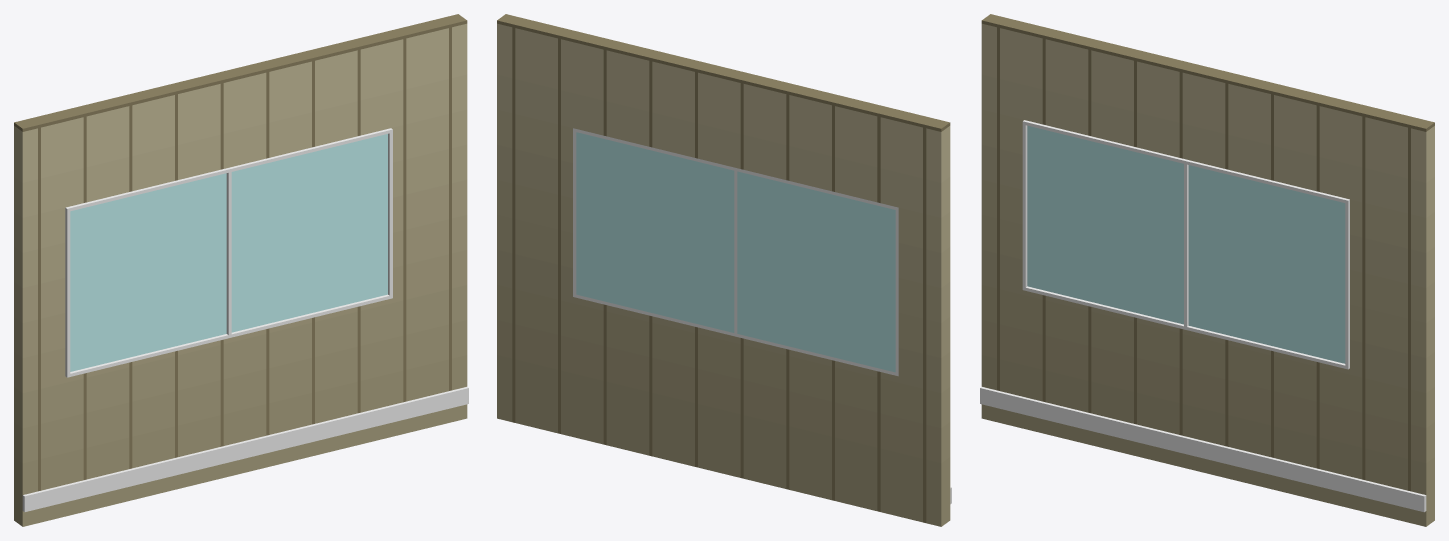
File: wall40.obj
3 views of the same model, side by side, from view 1: azimuth 30°, elevation 25°; view 2: azimuth 150°, elevation 25°; view 3: azimuth 330°, elevation 25° (orthographic).
Size of the model in its own units: 14.6 by 12.5 by 0.6.
Materials: 1 (1 with a texture image).
